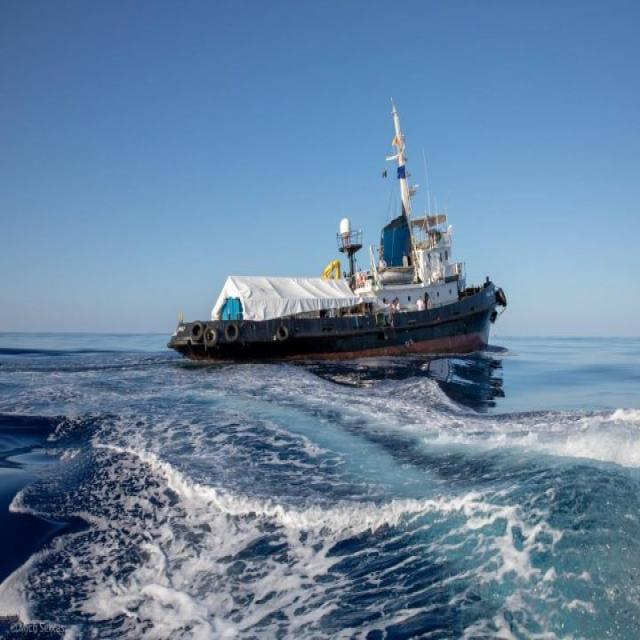Fishing Boat: (72, 103, 509, 384)
